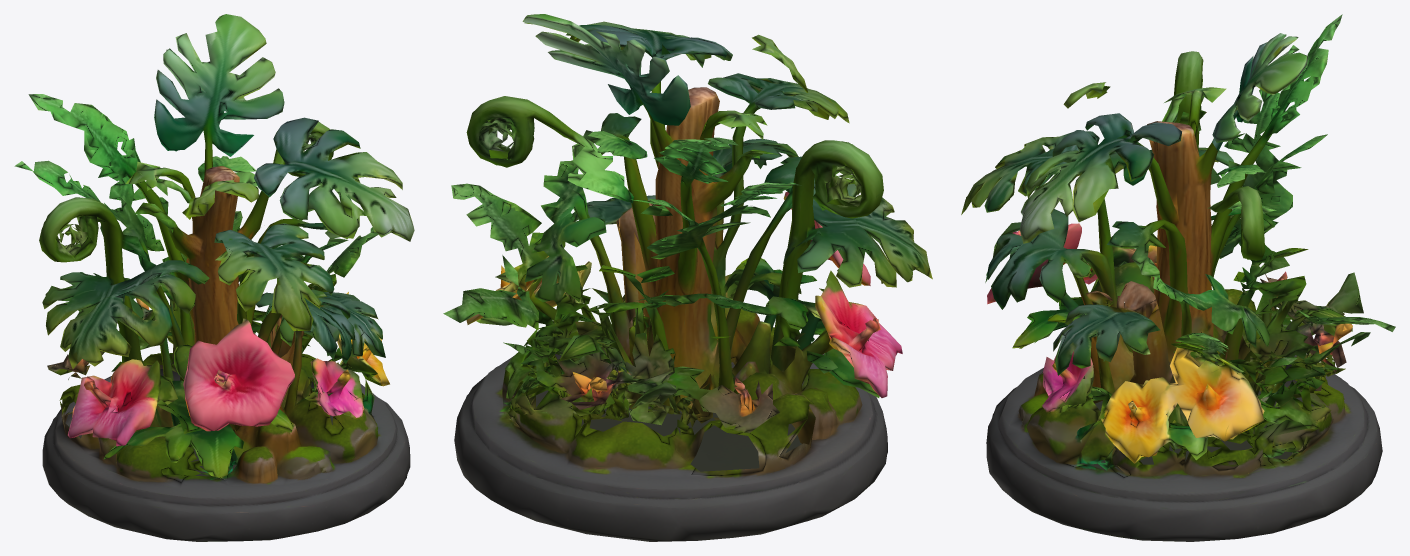
Rendered from env_tropical_flora.glb.
3 renders of one model, left to right at view 1: azimuth 30°, elevation 25°; view 2: azimuth 150°, elevation 25°; view 3: azimuth 270°, elevation 25°, orthographic. The views are drawn at different scales.
Parts seen in each view (by area): view 1: world; view 2: world; view 3: world.
Boxes of the visible parts, bbox=[...] form: world: bbox=[14, 14, 414, 541]; world: bbox=[443, 14, 932, 541]; world: bbox=[961, 14, 1395, 541].
Size of the model in its own units: 0.9476 by 1 by 0.9103.
Materials: 1 (1 with a texture image).
